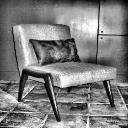chair_success: (6, 20, 124, 123)
